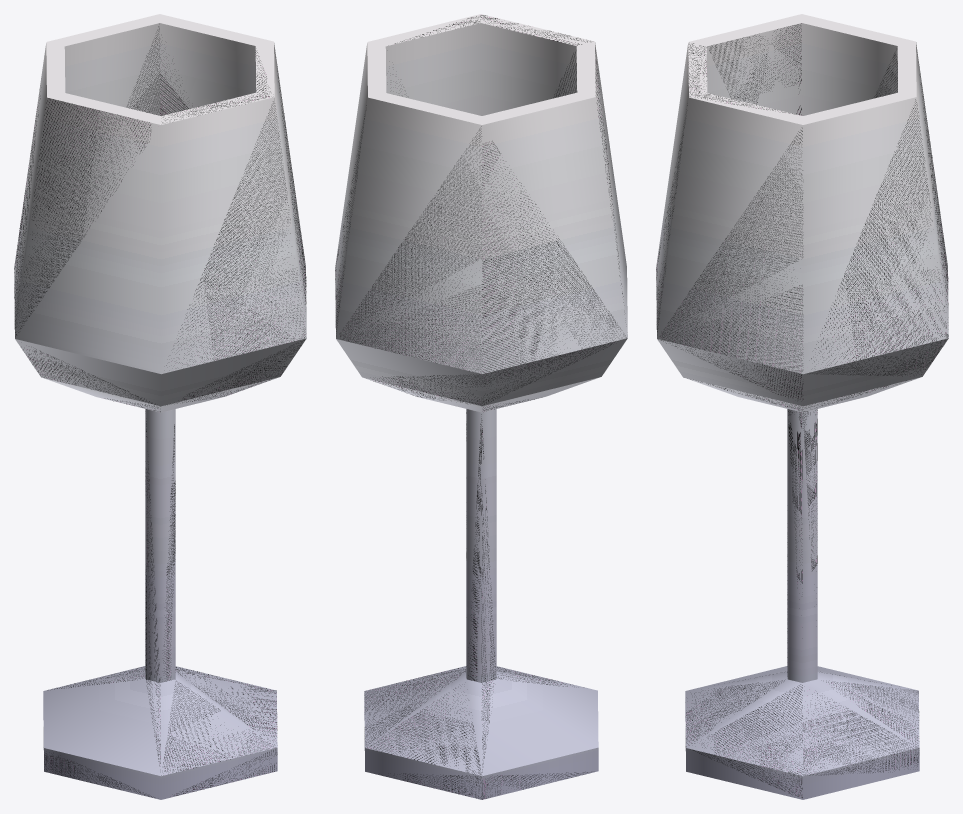
File: glass-wine.glb
3 renders of one model, left to right at view 1: azimuth 30°, elevation 25°; view 2: azimuth 150°, elevation 25°; view 3: azimuth 270°, elevation 25°, orthographic.
Visible parts, largest first — view 1: glass-wine; view 2: glass-wine; view 3: glass-wine.
Part boxes in pixels (<box>): glass-wine: <box>14,14,306,799</box>; glass-wine: <box>335,14,627,799</box>; glass-wine: <box>656,14,948,799</box>.
Size of the model in its own units: 0.2268 by 0.4999 by 0.1969.
1 material, 1 textured.
